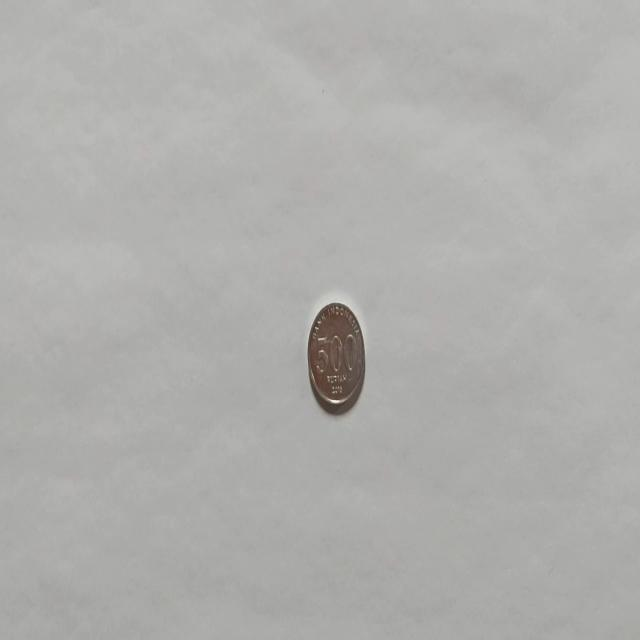lima ratus rupiah: (306, 300, 366, 414)
